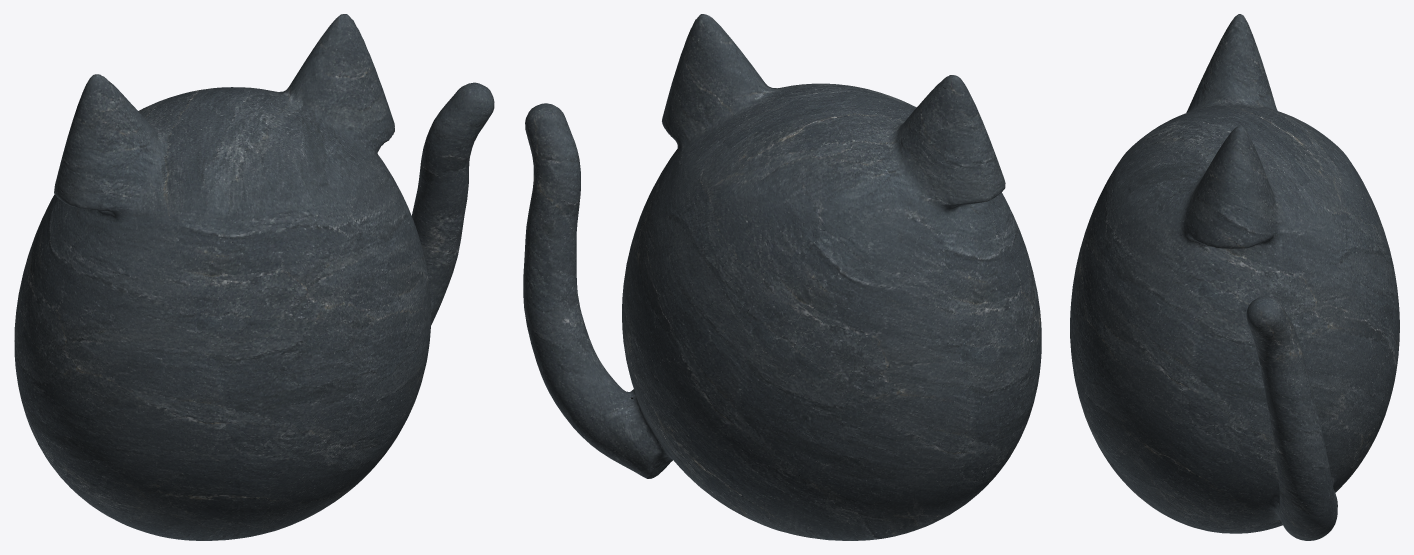
Rendered from cat-adult-slate.glb.
The picture shows the model from 3 angles, left to right: view 1: azimuth 30°, elevation 25°; view 2: azimuth 150°, elevation 25°; view 3: azimuth 270°, elevation 25°; orthographic projection. The views are drawn at different scales.
Visible parts, largest first — view 1: cat-adult-slate; view 2: cat-adult-slate; view 3: cat-adult-slate.
Part boxes in pixels (x1,y1,x2,y2): cat-adult-slate: [14, 14, 494, 540]; cat-adult-slate: [523, 14, 1041, 540]; cat-adult-slate: [1070, 14, 1399, 540].
Size of the model in its own units: 0.04 by 0.0369 by 0.0261.
Materials: 1 (1 with a texture image).
